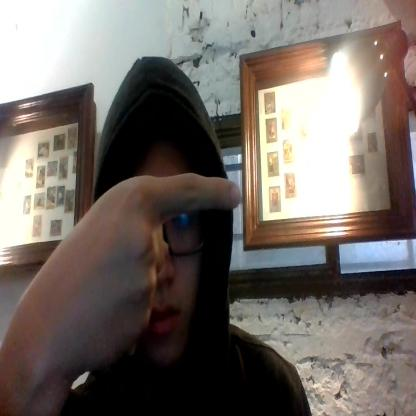left: (19, 169, 242, 367)
